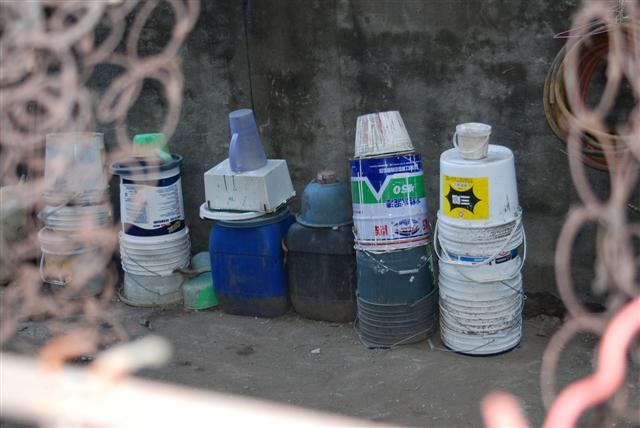bottle: (228, 108, 269, 174)
bowl: (298, 177, 352, 229), (453, 121, 492, 161), (182, 271, 219, 310), (130, 129, 168, 158), (190, 251, 213, 274)
box: (203, 158, 294, 212)
bucket: (207, 205, 293, 319), (347, 148, 433, 251), (437, 142, 524, 229), (282, 222, 356, 323), (111, 154, 190, 245), (42, 130, 109, 206), (352, 109, 416, 159)
